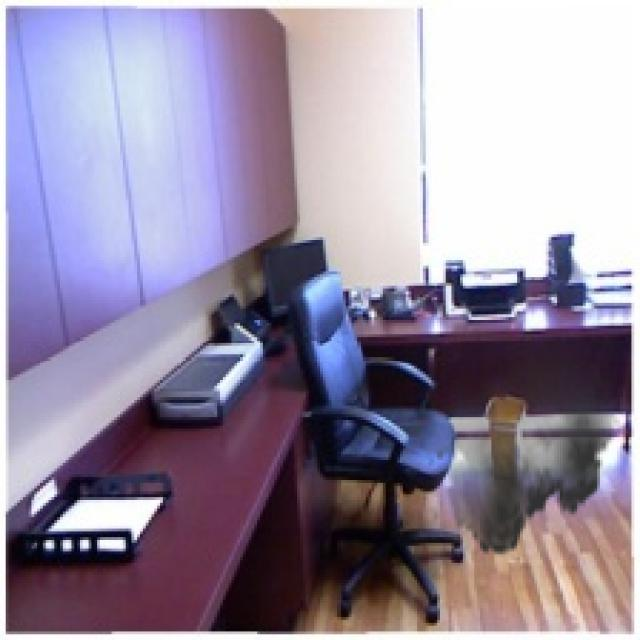smoke: (406, 314, 620, 566)
